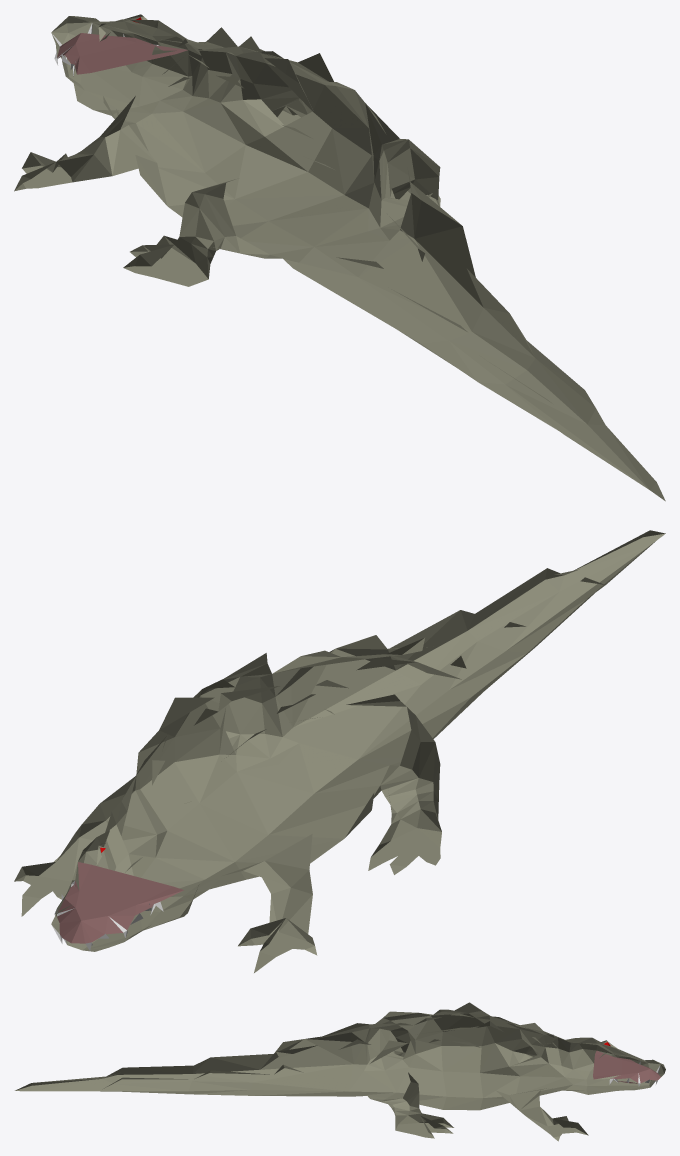
Rendered from alligator.gltf.
The picture shows the model from 3 angles, top to bottom: view 1: azimuth 30°, elevation 25°; view 2: azimuth 150°, elevation 25°; view 3: azimuth 270°, elevation 25°; orthographic projection. The views are drawn at different scales.
Parts seen in each view (by area): view 1: gator_colorMap; view 2: gator_colorMap; view 3: gator_colorMap.
Boxes of the visible parts, bbox=[...] form: gator_colorMap: bbox=[14, 14, 665, 501]; gator_colorMap: bbox=[14, 530, 665, 972]; gator_colorMap: bbox=[15, 1002, 665, 1141].
Size of the model in its own units: 145 by 73.1 by 481.
